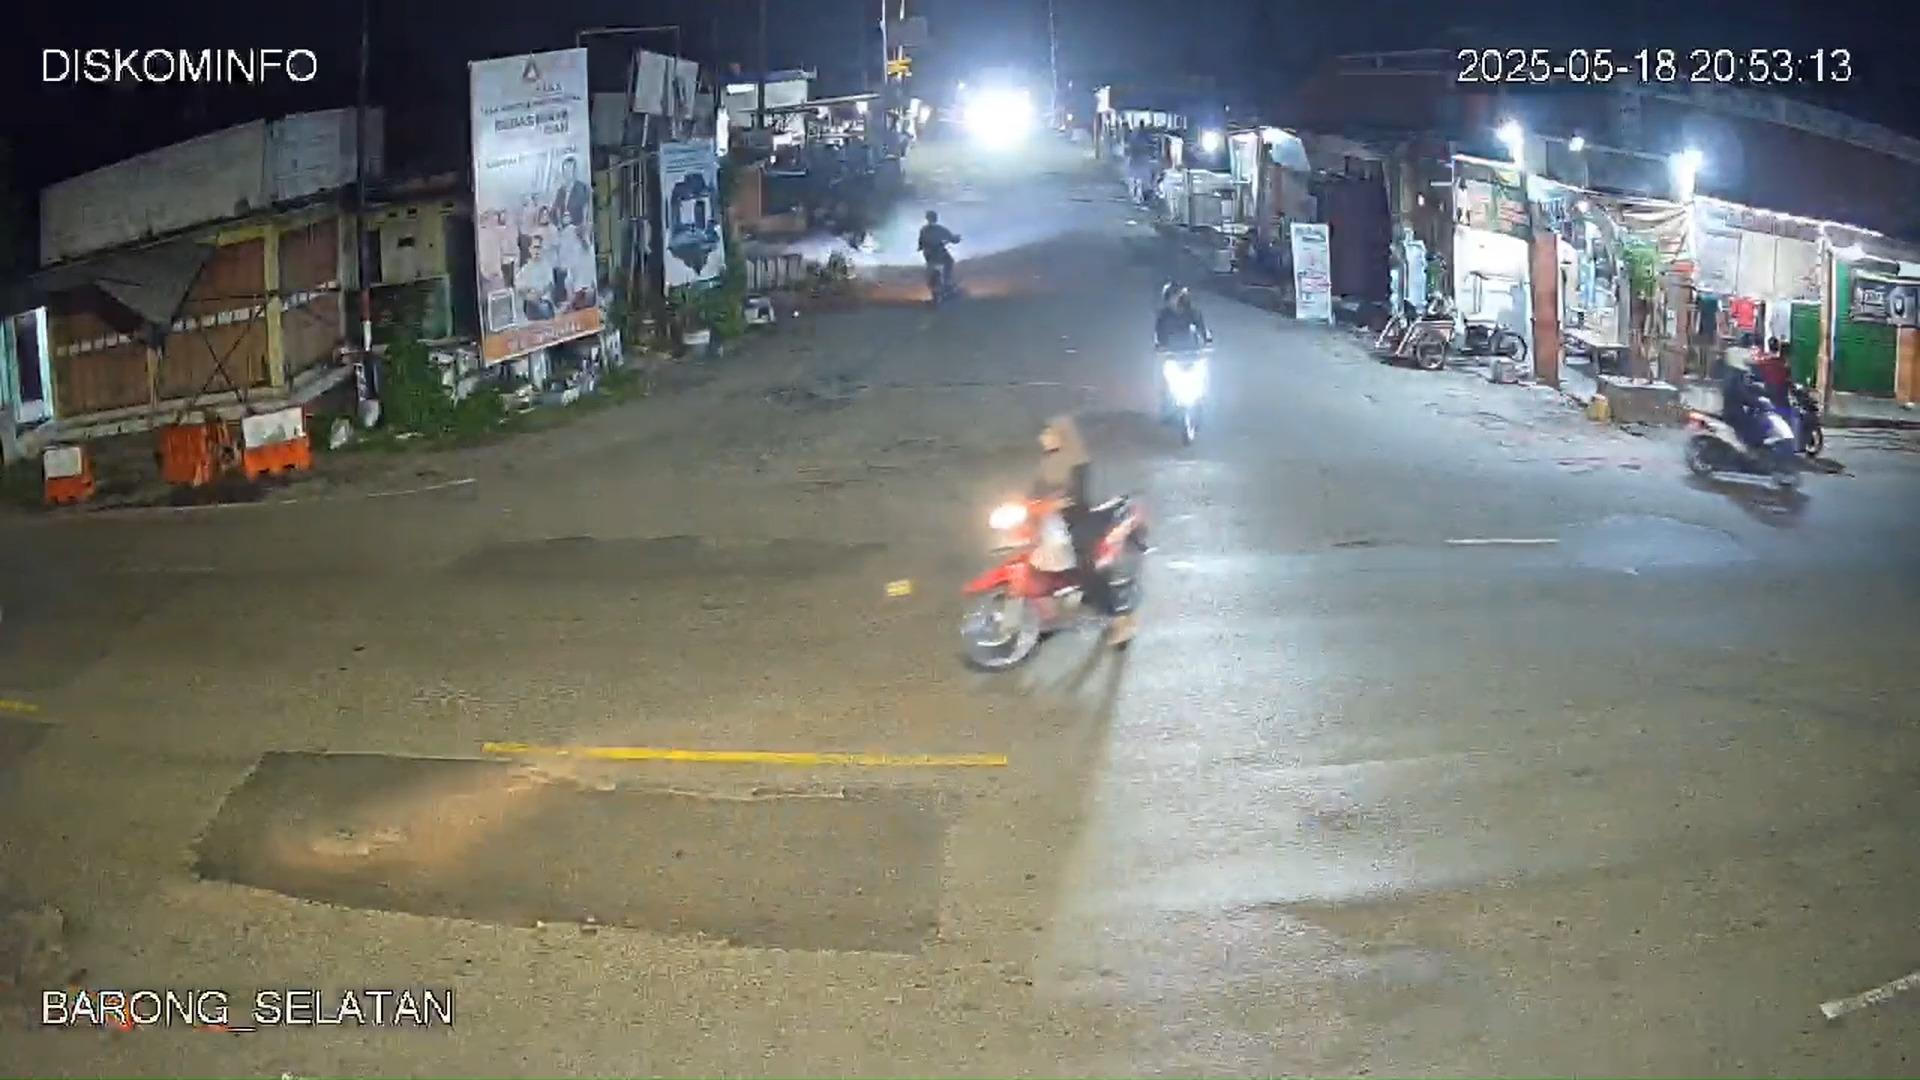Motor: (998, 402, 1151, 653), (1154, 277, 1215, 434), (923, 237, 965, 307)
